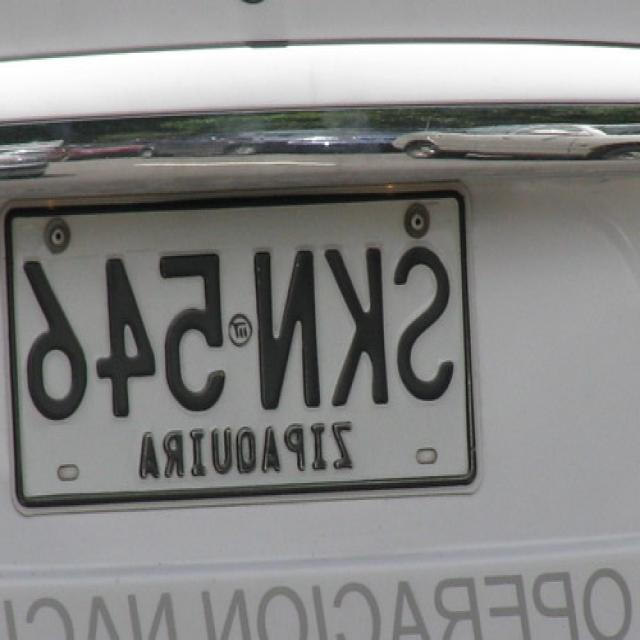placas: (8, 225, 463, 440)
